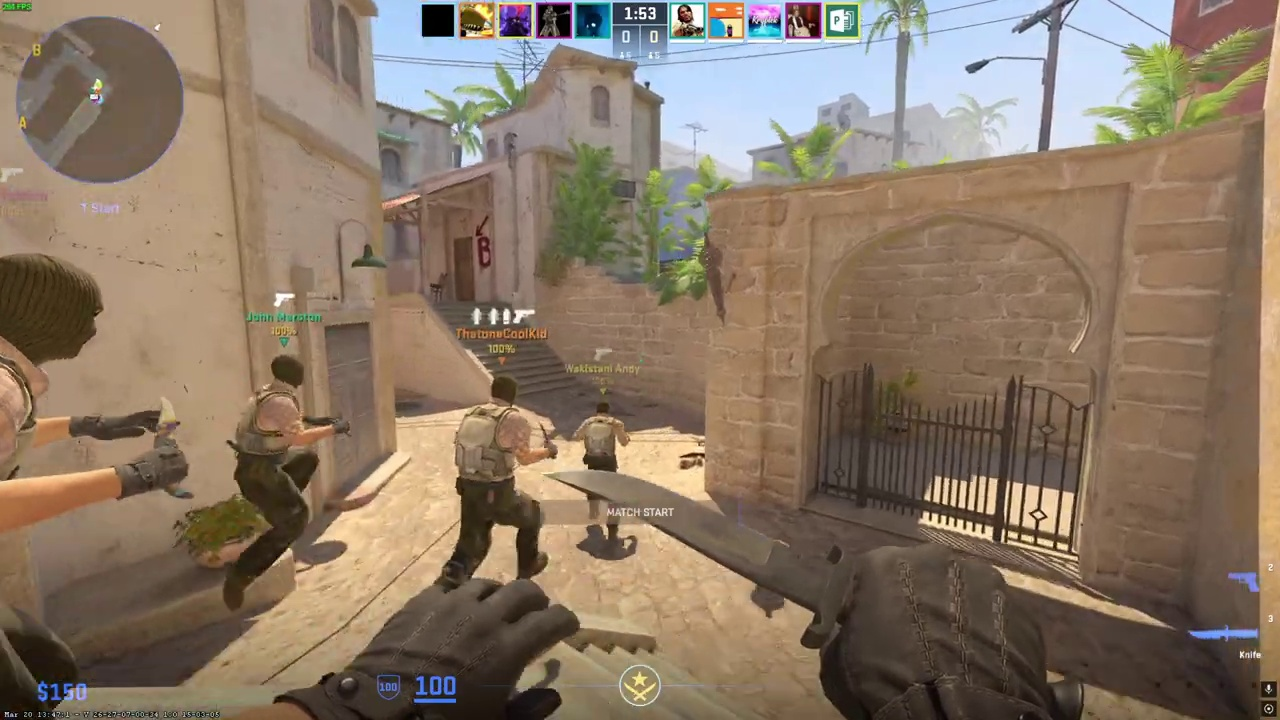Terrorist: (0, 252, 121, 720), (223, 354, 336, 612), (439, 372, 554, 593), (575, 400, 631, 539)
